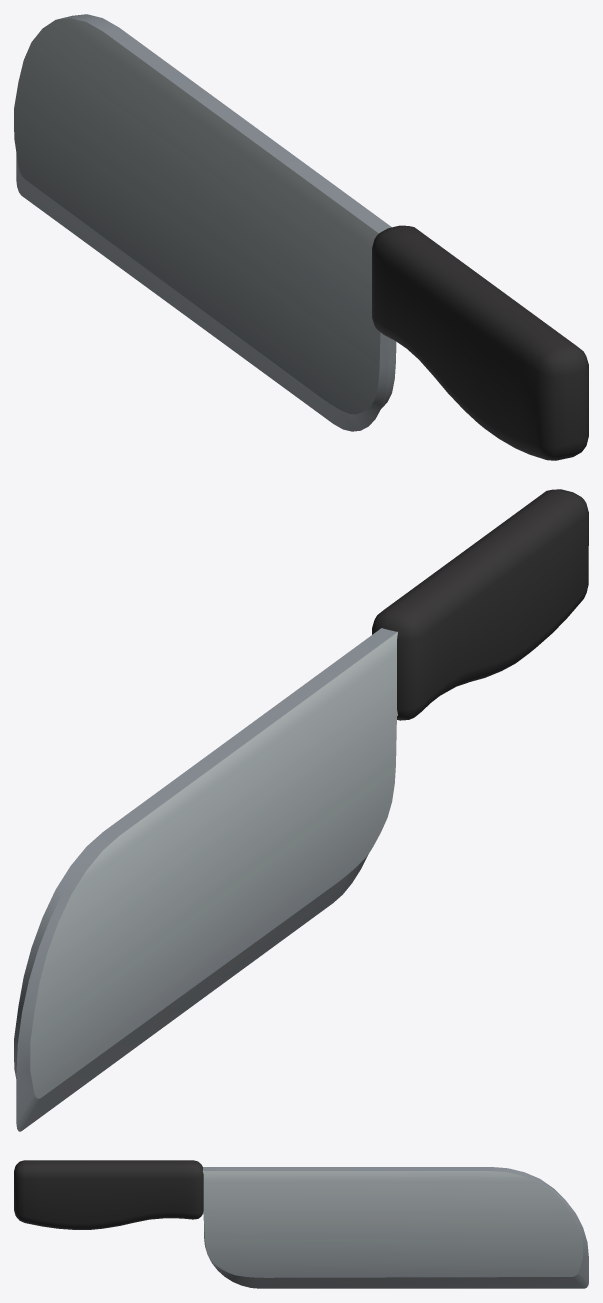
File: Knife.fbx
3 renders of one model, top to bottom at view 1: azimuth 30°, elevation 25°; view 2: azimuth 150°, elevation 25°; view 3: azimuth 270°, elevation 25°, orthographic. The views are drawn at different scales.
Visible parts, largest first — view 1: Cube.027; view 2: Cube.027; view 3: Cube.027.
Part boxes in pixels (x1=…): Cube.027: x1=14, y1=14, x2=588, y2=460; Cube.027: x1=14, y1=489, x2=588, y2=1131; Cube.027: x1=14, y1=1160, x2=588, y2=1288.
Bounding box in the file's own units: 0.3103 × 1.48 × 6.11.
